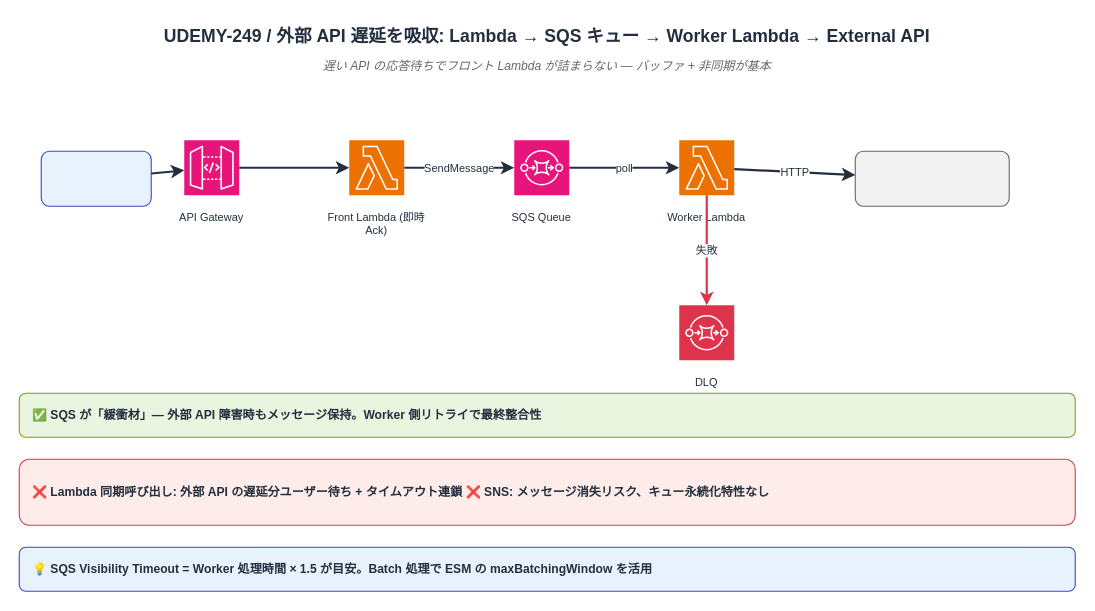
This 1095x611 diagram has some shape labels left out. The centre of each missing label's shape, as x and y in pixels:
"External API (遅い/不安定)" belongs at point (931, 178).
"Web Client" belongs at point (95, 178).
